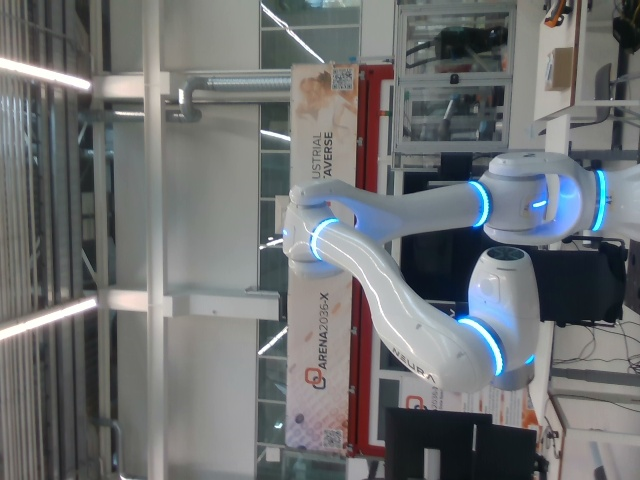Robot arm: (282, 151, 639, 391)
